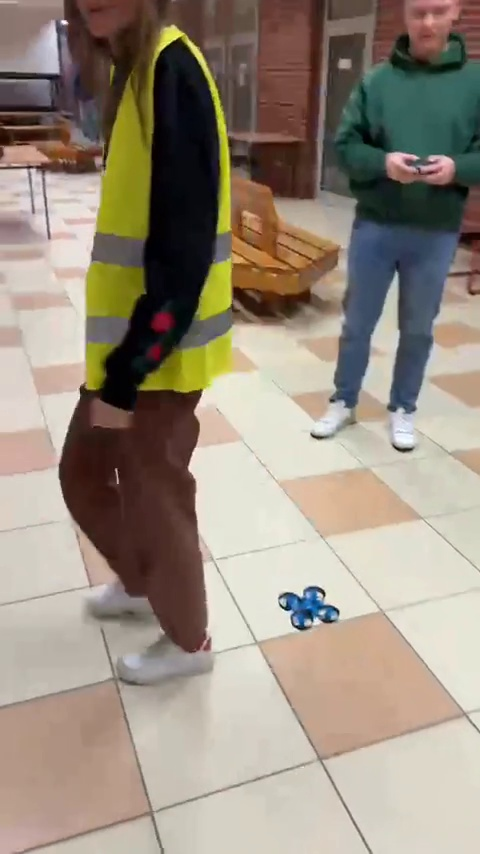drone: (277, 587, 342, 628)
no vest: (337, 0, 473, 447)
vest: (66, 2, 248, 673)
